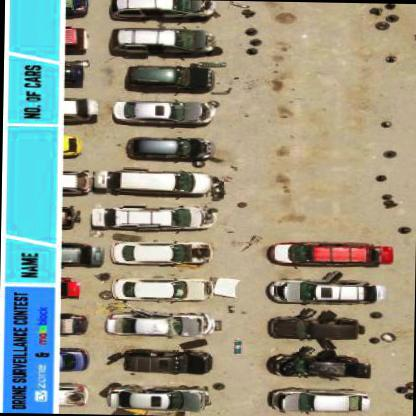car: (104, 309, 217, 338), (91, 204, 212, 231), (268, 278, 384, 306), (102, 383, 209, 413), (267, 241, 389, 267), (108, 26, 217, 55), (266, 352, 370, 382), (95, 169, 209, 195), (108, 0, 217, 25), (268, 388, 366, 415), (113, 99, 214, 125), (106, 276, 211, 301), (111, 238, 209, 264), (124, 64, 218, 90), (124, 134, 215, 160), (118, 350, 212, 374), (269, 315, 358, 340), (62, 95, 96, 123), (60, 168, 91, 198), (61, 244, 102, 266), (56, 382, 88, 407), (60, 348, 89, 372), (60, 314, 88, 334)
